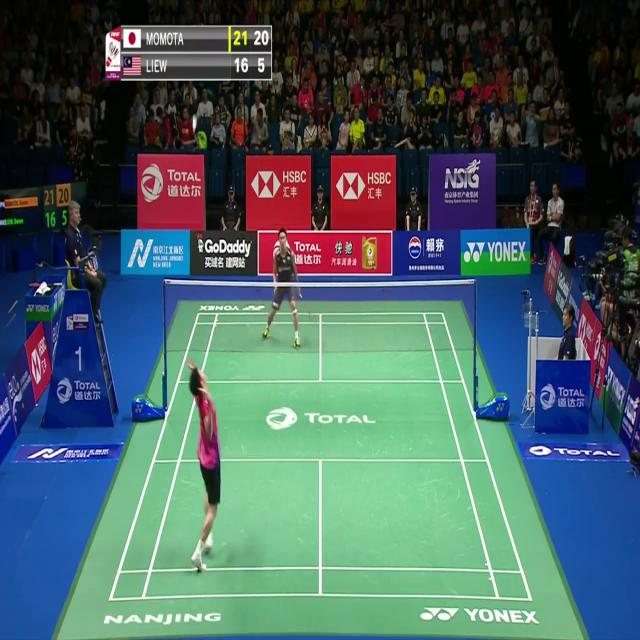Shuttlecock: (192, 115, 198, 127)
